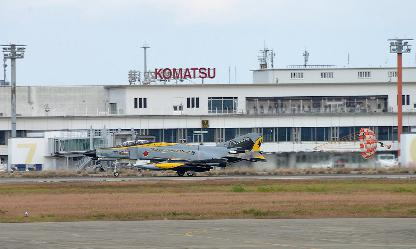F35: (75, 131, 267, 175)
